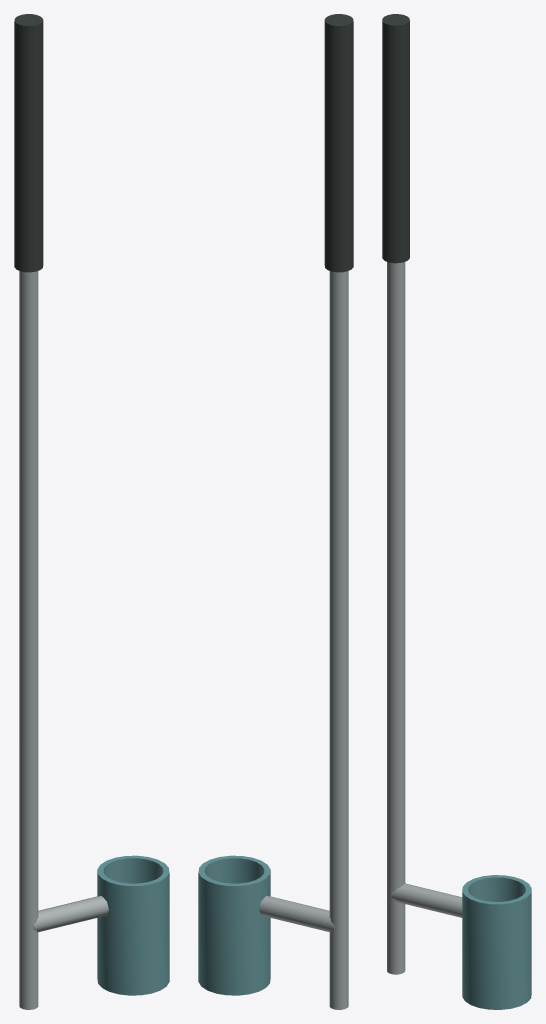
File: flooded-and-coastal-survival-telescopic-water-sampler-98491e41__20080.glb
3 renders of one model, left to right at view 1: azimuth 30°, elevation 25°; view 2: azimuth 150°, elevation 25°; view 3: azimuth 330°, elevation 25°, orthographic. The views are drawn at different scales.
Visible parts, largest first — view 1: telescopic-water-sampler; view 2: telescopic-water-sampler; view 3: telescopic-water-sampler.
Boxes of the visible parts, box(x1,y1,x2,y2) form: telescopic-water-sampler: box(14, 14, 169, 1009); telescopic-water-sampler: box(198, 14, 353, 1009); telescopic-water-sampler: box(382, 14, 531, 1009).
Bounding box in the file's own units: 0.284 × 1.8 × 0.12.
